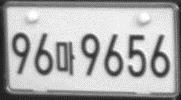5: (126, 33, 146, 78)
6: (102, 34, 123, 77), (32, 33, 53, 75), (150, 34, 170, 78)
9: (80, 33, 100, 76), (11, 32, 31, 74)
마: (55, 40, 75, 75)
